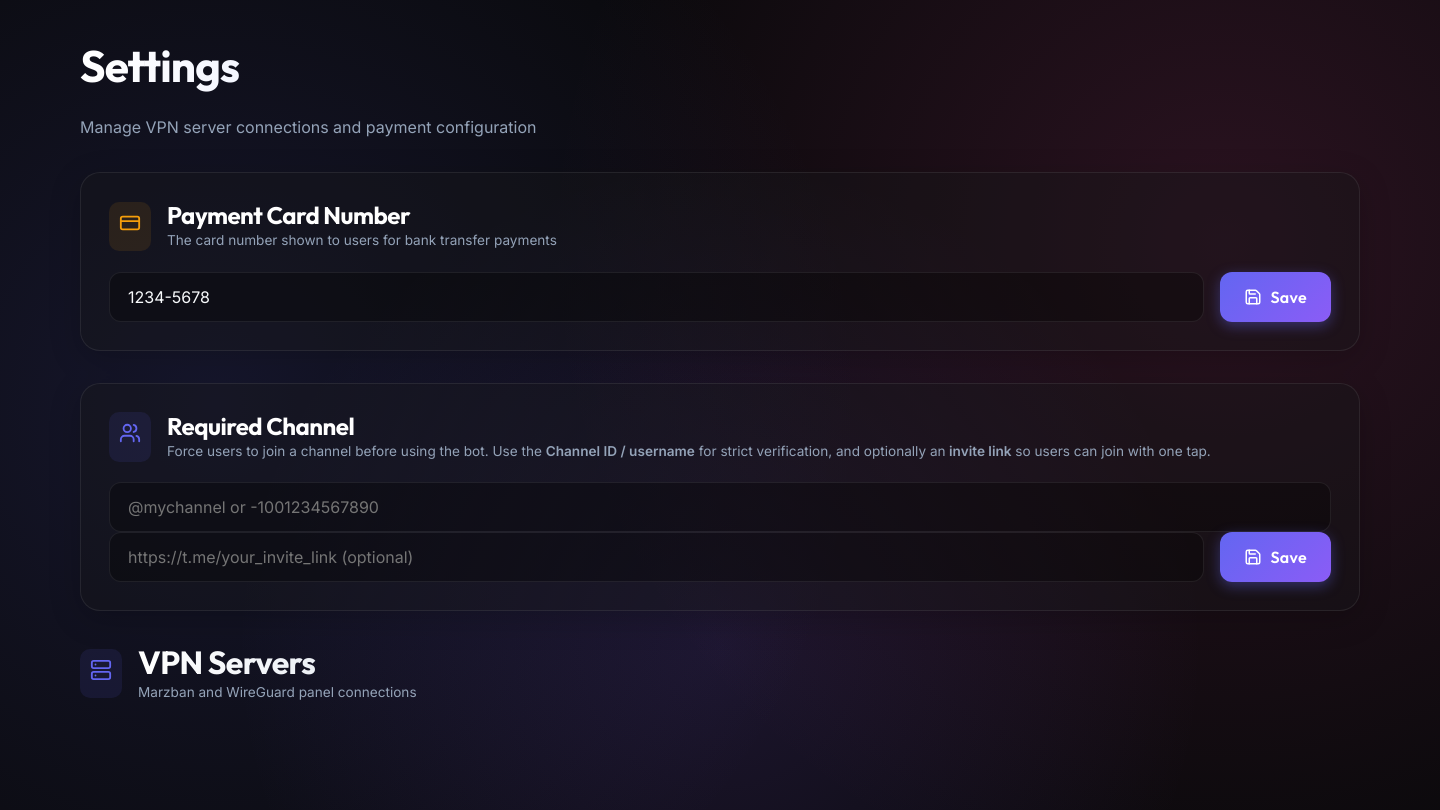
it: Settings › saves card number independently
Replace the text in the field with placeholder "1234-5678-9012-3456" with "9999-8888" at coordinates (657, 297), box [109,272,1204,322]
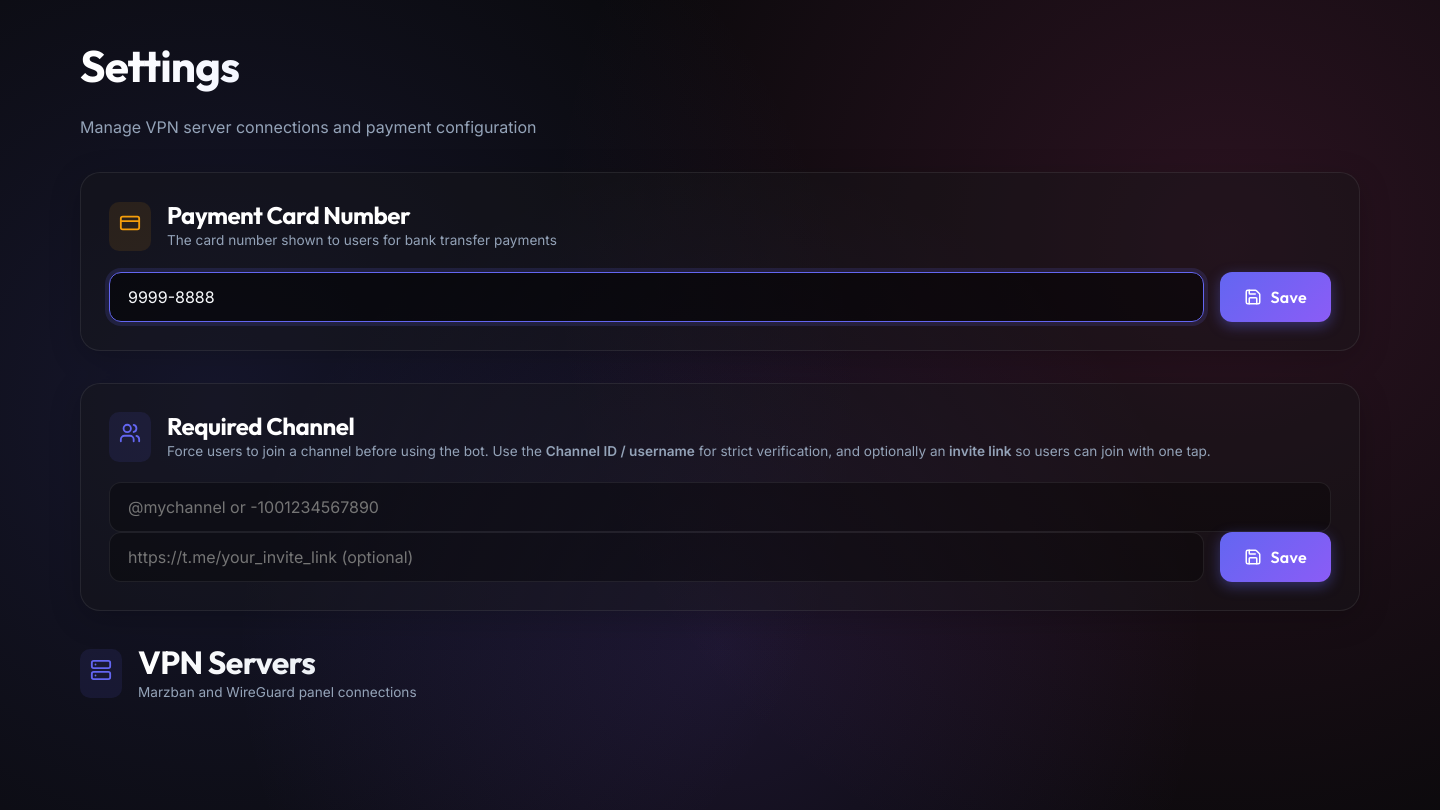
// First Save button is for card number
Click the 1st button "Save" at coordinates (1276, 297), box [1220,272,1331,322]
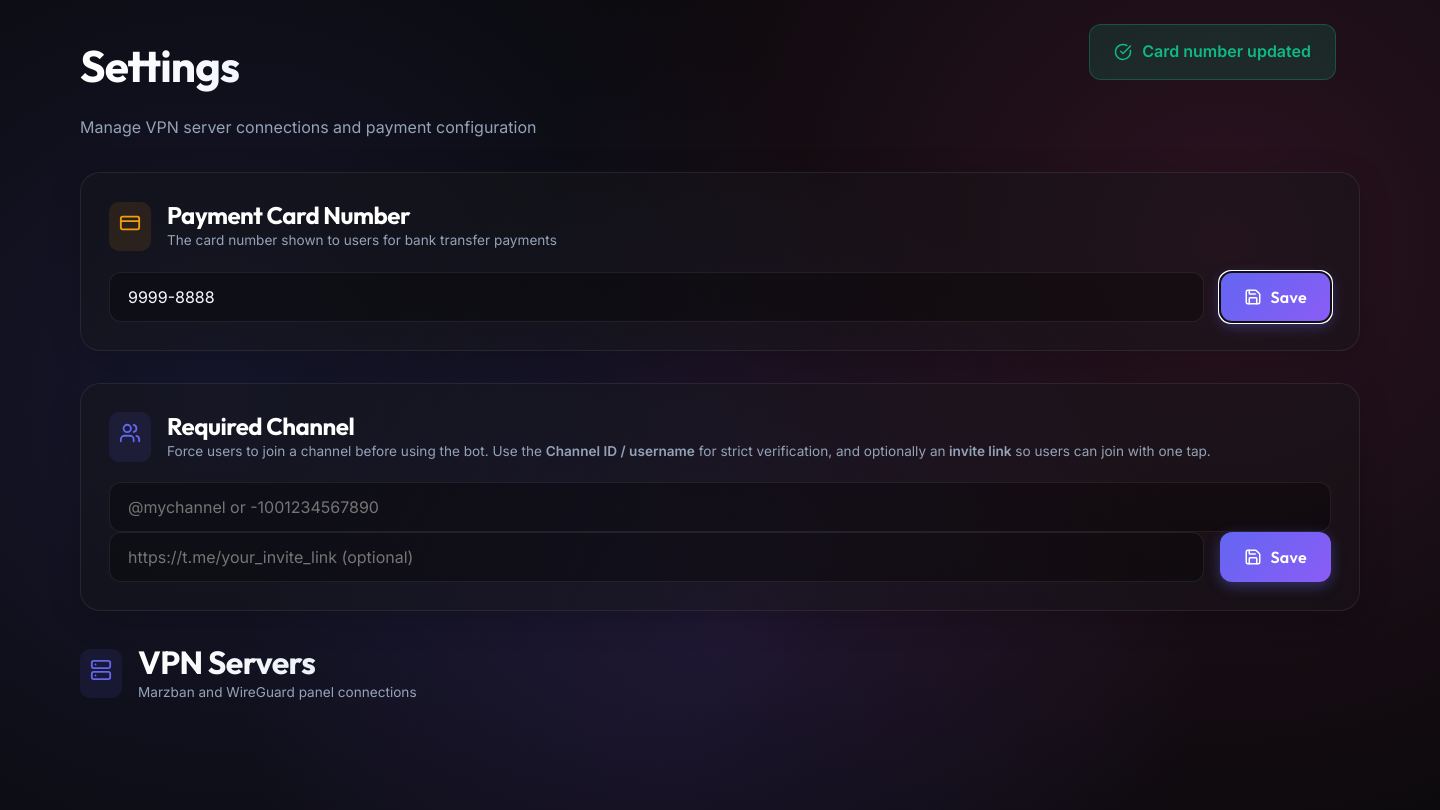
Expected: the text "Card number updated" is shown, [1089,24,1336,80]
